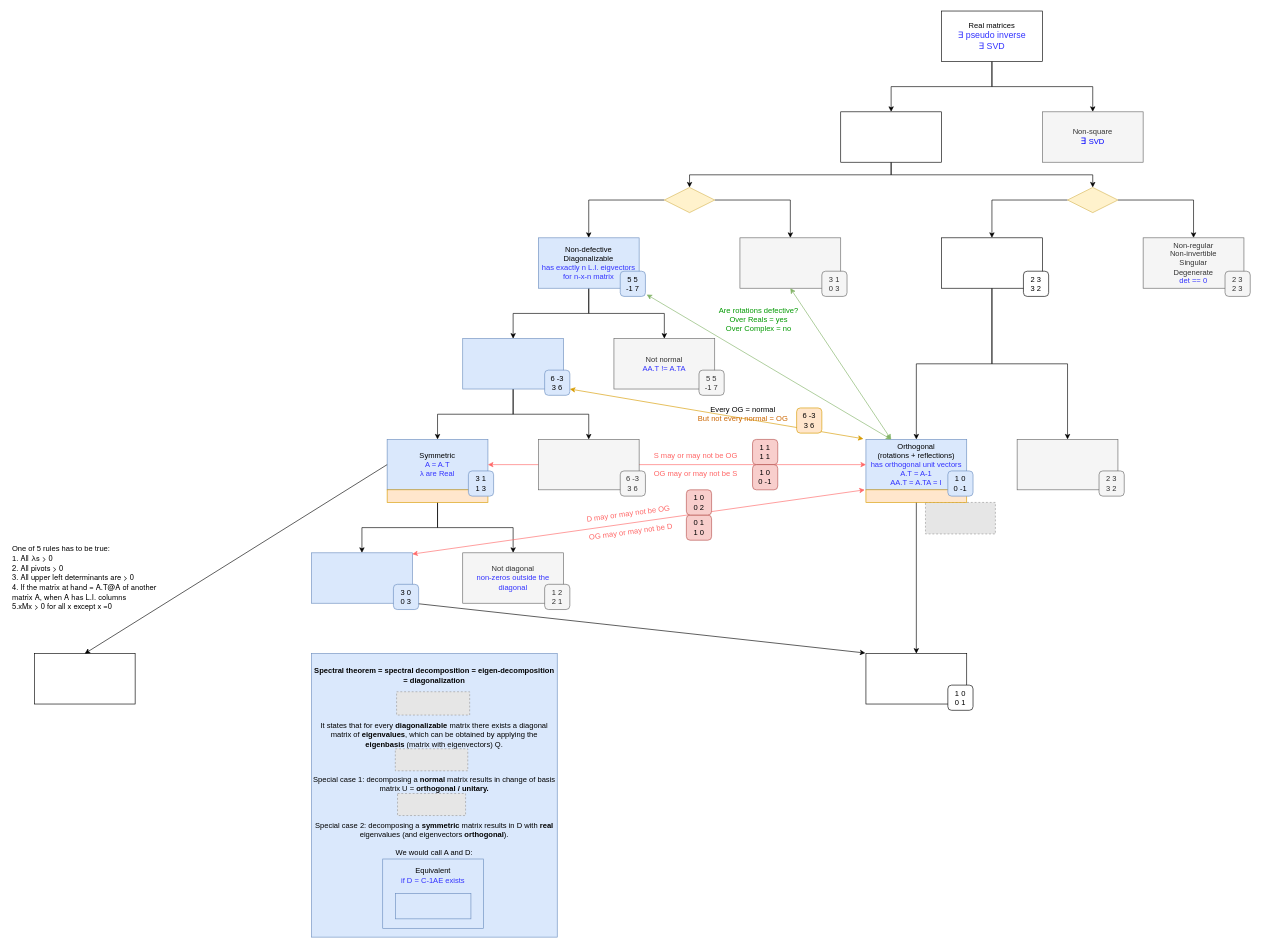
This 1261x948 diagram has some shape labels left out. Grey dashed boxes stand in for pictures. The shapes that lost their labels are listed below. From the top down, each one's box as (x1, y1, x2, y2) in pixels, then its label:
(840, 111, 942, 162): Square ∃ det ∃ trace
(664, 187, 715, 213): eig
(1067, 187, 1118, 213): det
(739, 237, 841, 288): Defective Non-diagonalizable fewer than n L.I. eigvectors for n-x-n matrix
(941, 237, 1042, 288): Regular Invertible Non-singular Non-degenerate det != 0
(462, 338, 564, 389): Normal "unitary diagonalizable" AA.T == A.TA
(538, 439, 639, 490): Not symmetric A != A.T λ are not Real
(1017, 439, 1118, 490): Non-orthogonal A.T != A-1
(387, 489, 488, 502): In C: Hermitian
(865, 489, 967, 502): In C: Unitary
(311, 552, 412, 603): Diagonal zeros everywhere except the diagonal
(34, 653, 135, 704): Positive-definite λ > 0
(865, 653, 967, 704): Identity AA.T = A.TA = I
(395, 893, 471, 919): Similar if D = C-1AC exists
